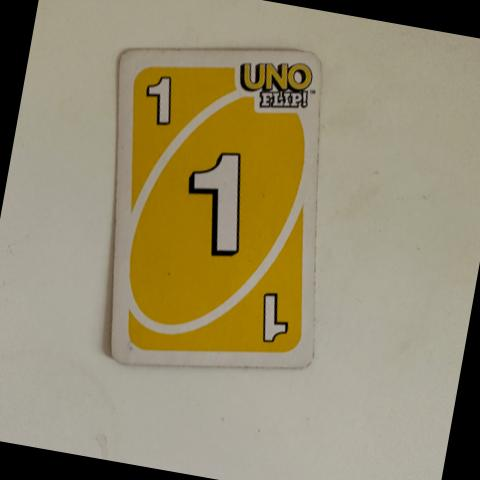5_red: (180, 145, 258, 265), (254, 282, 296, 348), (142, 71, 185, 131)
